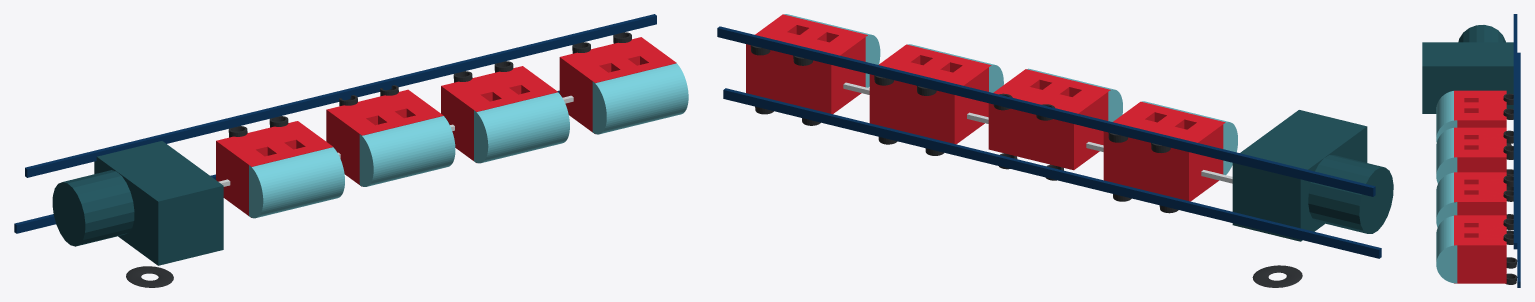
Rendered from tinker.obj.
The picture shows the model from 3 angles, left to right: view 1: azimuth 30°, elevation 25°; view 2: azimuth 150°, elevation 25°; view 3: azimuth 270°, elevation 25°; orthographic projection. The views are drawn at different scales.
Visible parts, largest first — view 1: group_0_7720667, group_0_15277357, group_0_1855578, group_0_341091, group_0_2829873; view 2: group_0_15277357, group_0_341091, group_0_1855578, group_0_2829873, group_0_7720667, group_0_14541540; view 3: group_0_15277357, group_0_1855578, group_0_7720667, group_0_341091, group_0_2829873.
Boxes of the visible parts, x1,y1,x2,y2 form: group_0_7720667: [249, 63, 688, 218]; group_0_15277357: [216, 37, 676, 217]; group_0_1855578: [52, 141, 223, 265]; group_0_341091: [14, 14, 656, 233]; group_0_2829873: [126, 32, 631, 287]; group_0_15277357: [746, 14, 1225, 201]; group_0_341091: [717, 26, 1381, 258]; group_0_1855578: [1232, 110, 1393, 241]; group_0_2829873: [750, 45, 1302, 287]; group_0_7720667: [784, 14, 1237, 174]; group_0_14541540: [843, 82, 1232, 183]; group_0_15277357: [1454, 90, 1506, 283]; group_0_1855578: [1422, 25, 1513, 113]; group_0_7720667: [1436, 91, 1457, 283]; group_0_341091: [1513, 14, 1520, 287]; group_0_2829873: [1503, 93, 1517, 284].
Bounding box in the file's own units: 156 × 29.18 × 28.
